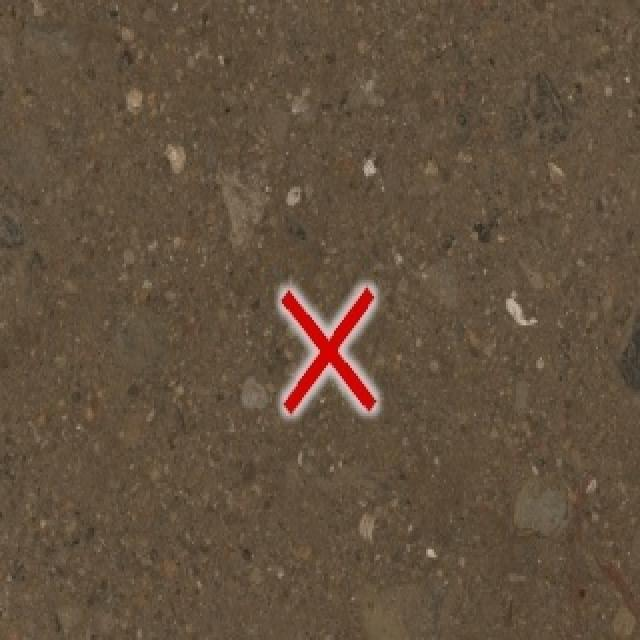x_marker: (281, 287, 375, 412)
